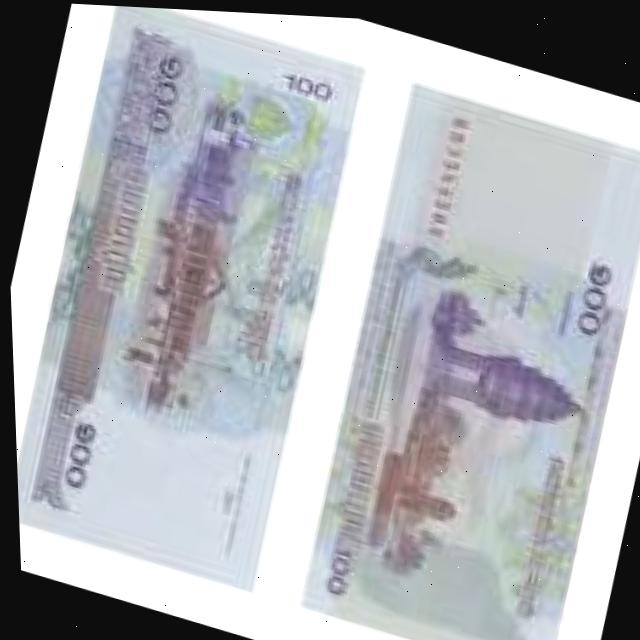banknote: (0, 0, 382, 599), (280, 70, 640, 640), (262, 52, 348, 111), (300, 528, 363, 607)
